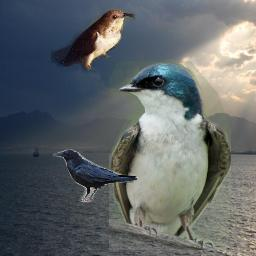Crow: (53, 149, 139, 203)
Cuckoo: (51, 9, 135, 70)
Swallow: (109, 61, 231, 250)
